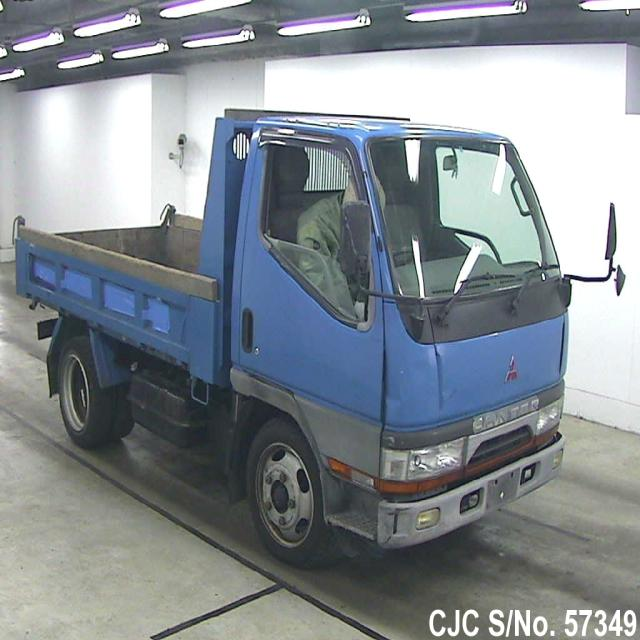truck: (16, 111, 617, 560)
